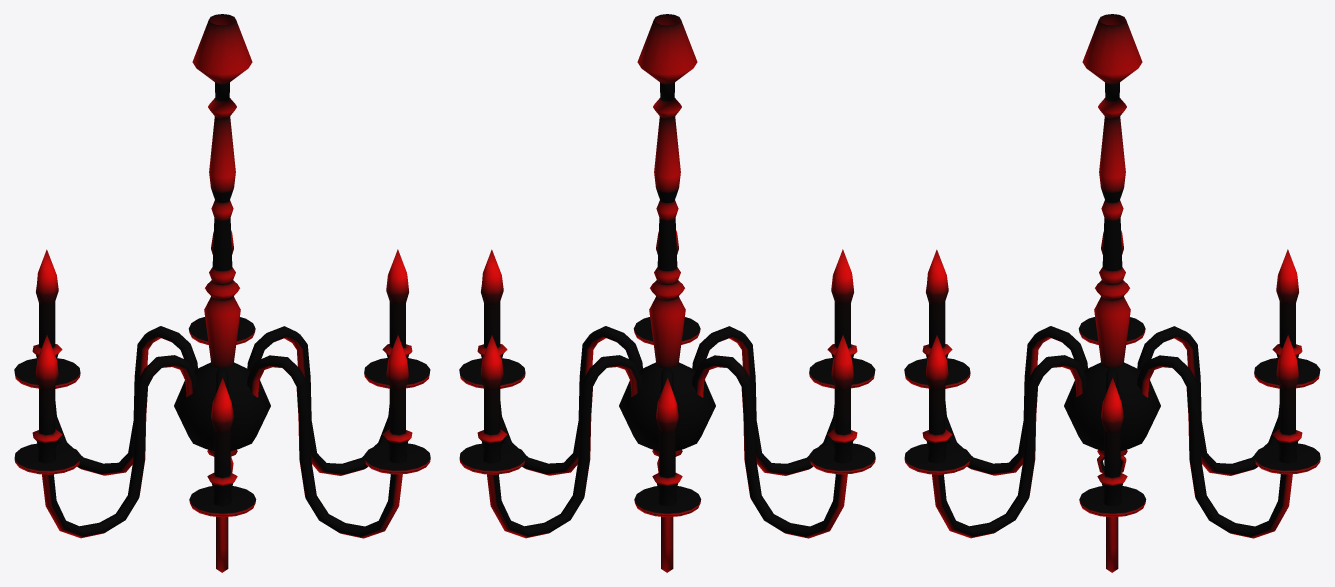
The model's file is SM_Chandelier.fbx.
The picture shows the model from 3 angles, left to right: view 1: azimuth 30°, elevation 25°; view 2: azimuth 150°, elevation 25°; view 3: azimuth 270°, elevation 25°; orthographic projection.
Parts seen in each view (by area): view 1: SM_Chandelier; view 2: SM_Chandelier; view 3: SM_Chandelier.
Boxes of the visible parts, x1,y1,x2,y2 form: SM_Chandelier: [14, 14, 430, 572]; SM_Chandelier: [459, 14, 875, 572]; SM_Chandelier: [904, 14, 1320, 572].
Size of the model in its own units: 159 by 180 by 140.
